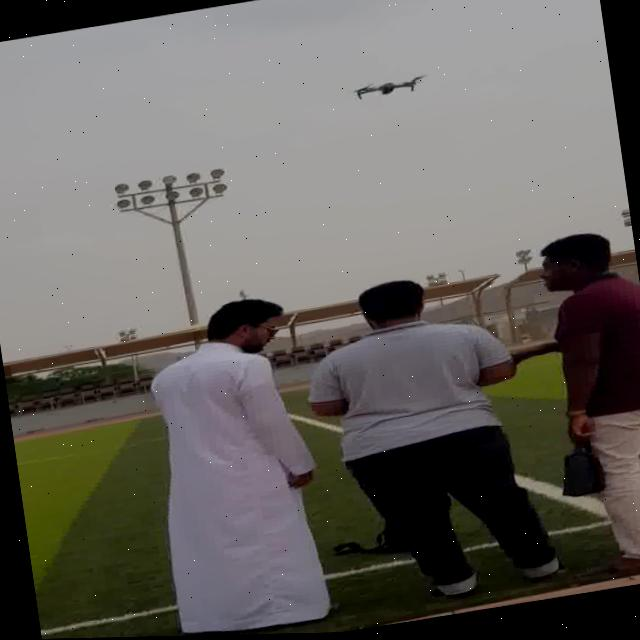drone: (342, 71, 433, 108)
